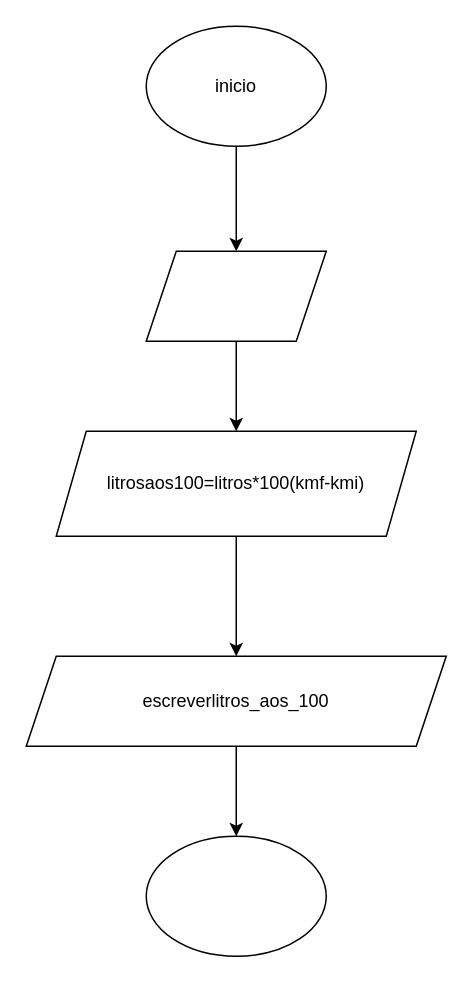
The diagram is 473 pixels wide and 983 high, and some of its shapes have lost their labels. The centre of each missing label's shape, as x and y in pixels:
"fim" belongs at (x=235, y=895).
"ler kmi, kmf, l" belongs at (x=235, y=295).
